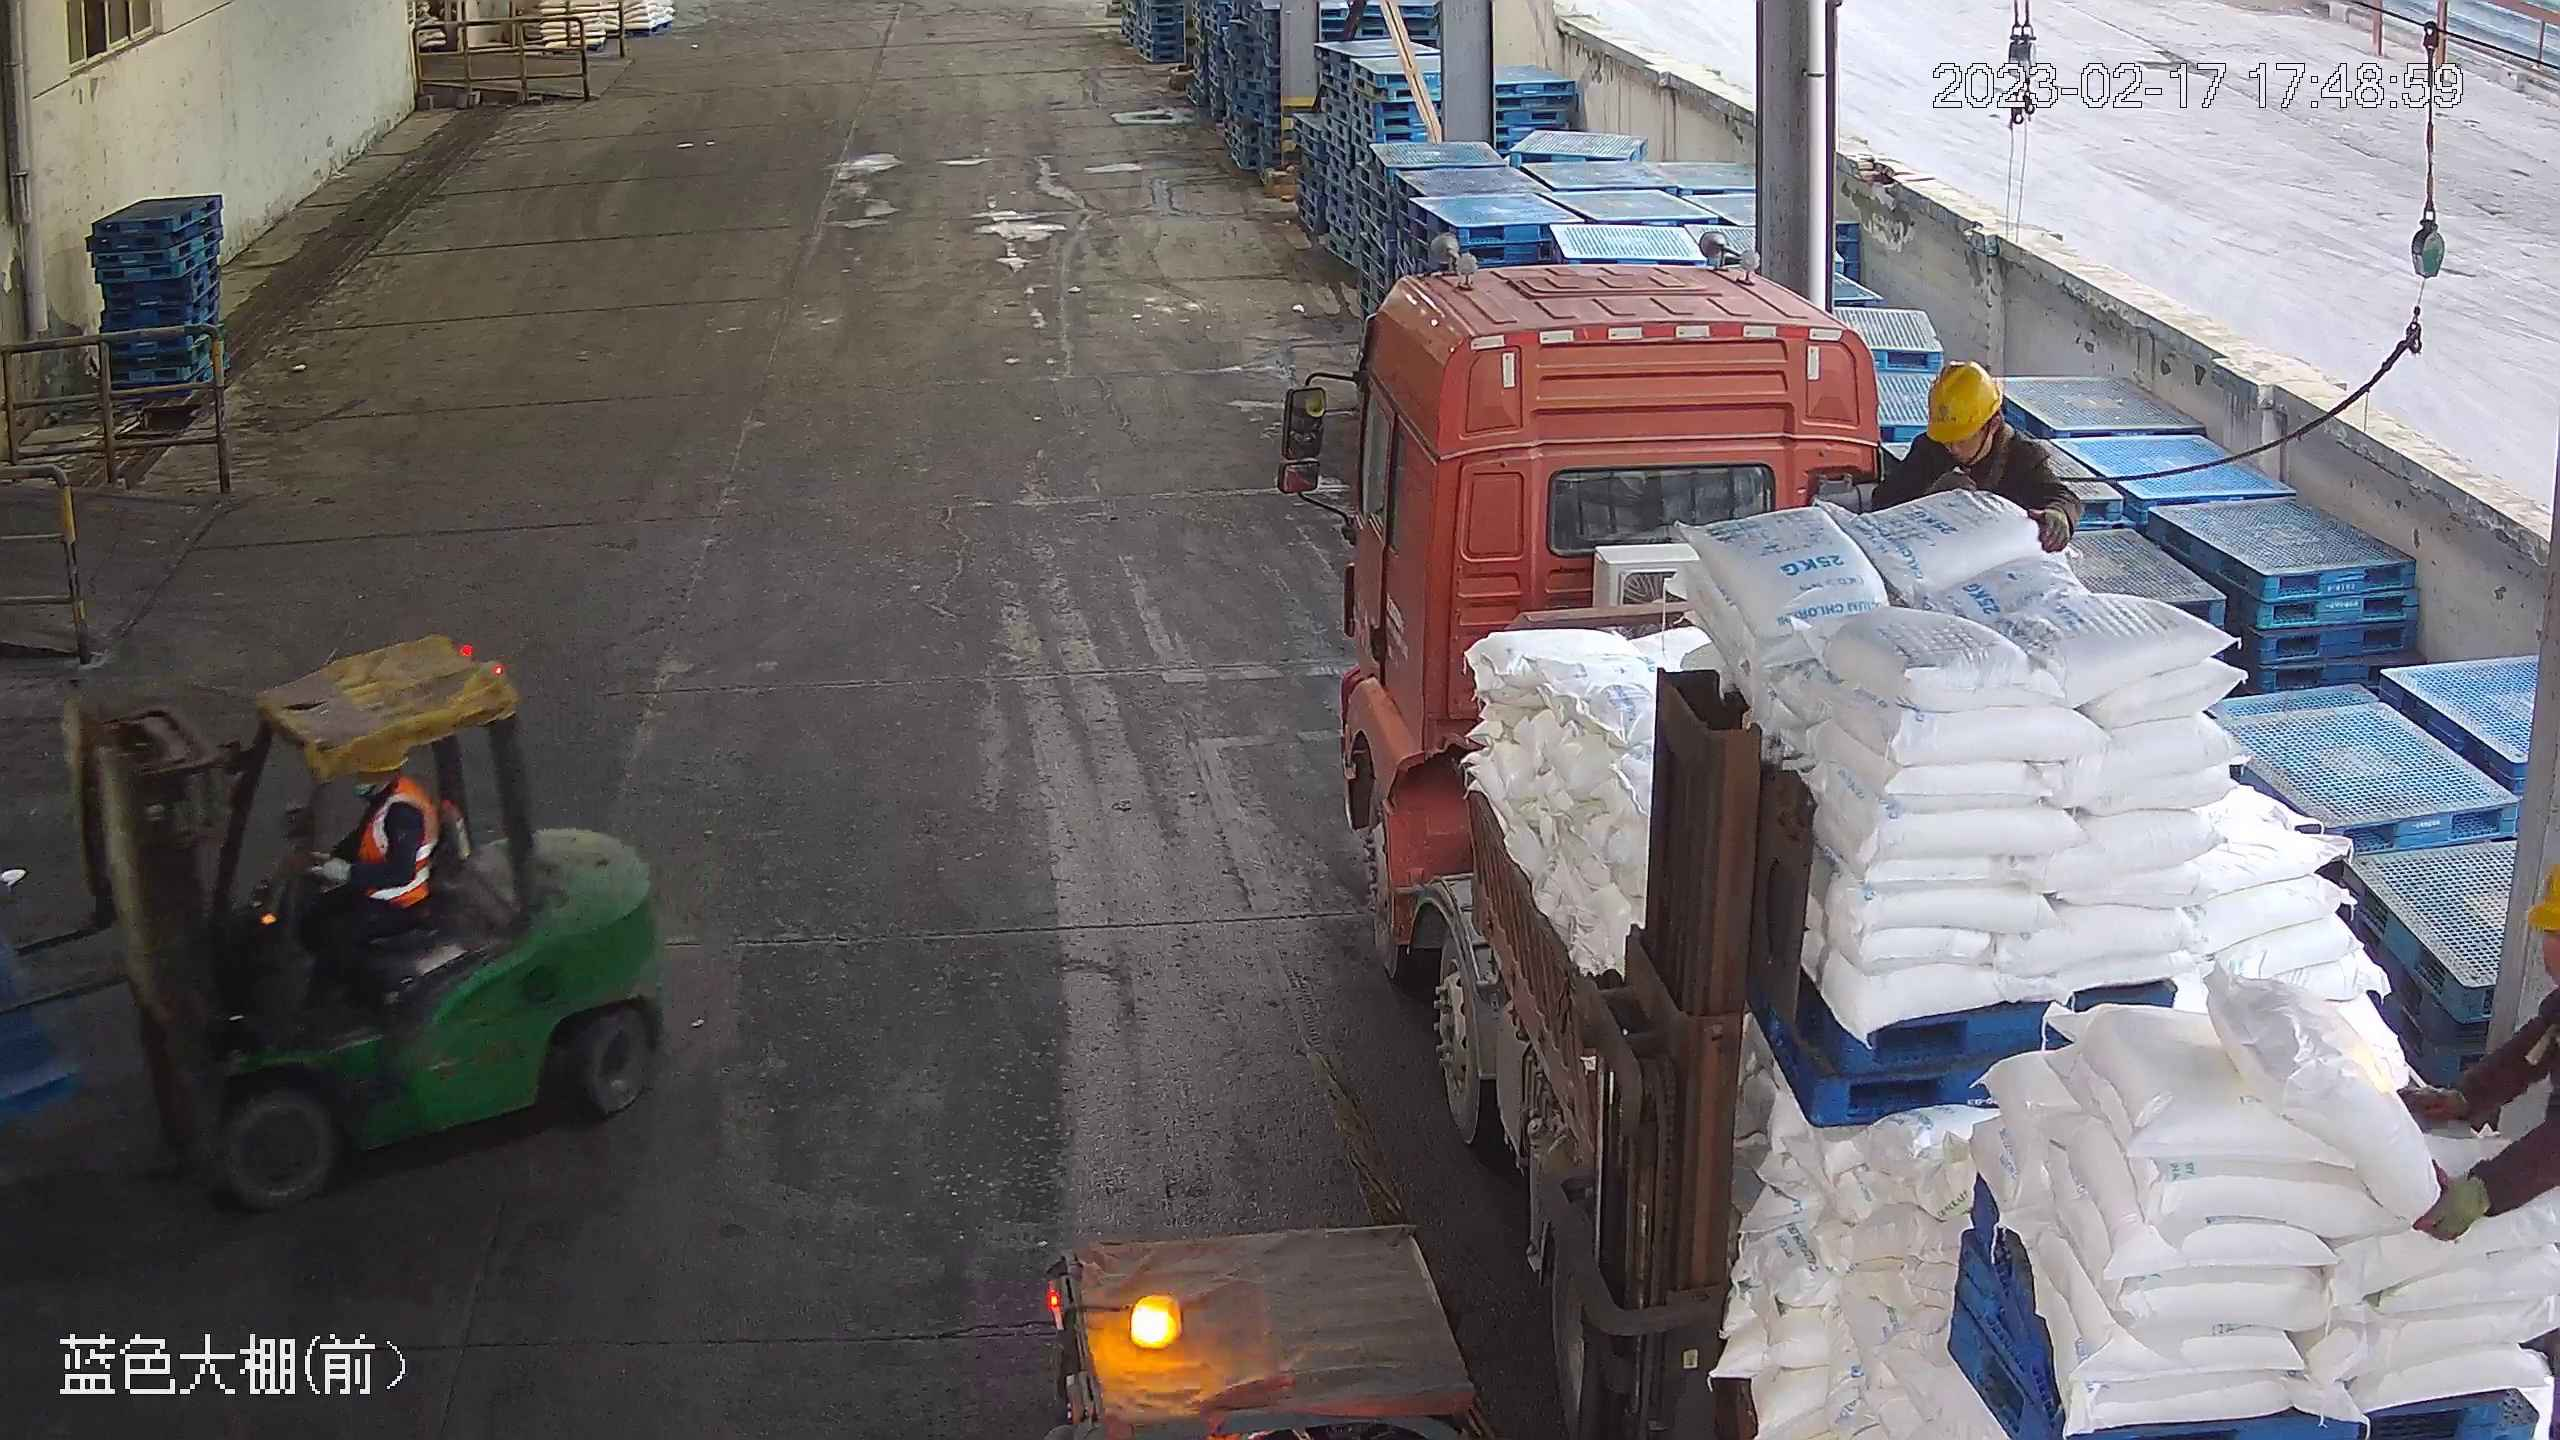belt: (1935, 428, 2019, 491)
head: (1897, 357, 2051, 488)
helmet: (1924, 358, 2003, 441)
people: (274, 746, 453, 992)
truck: (1276, 265, 2556, 1440)
